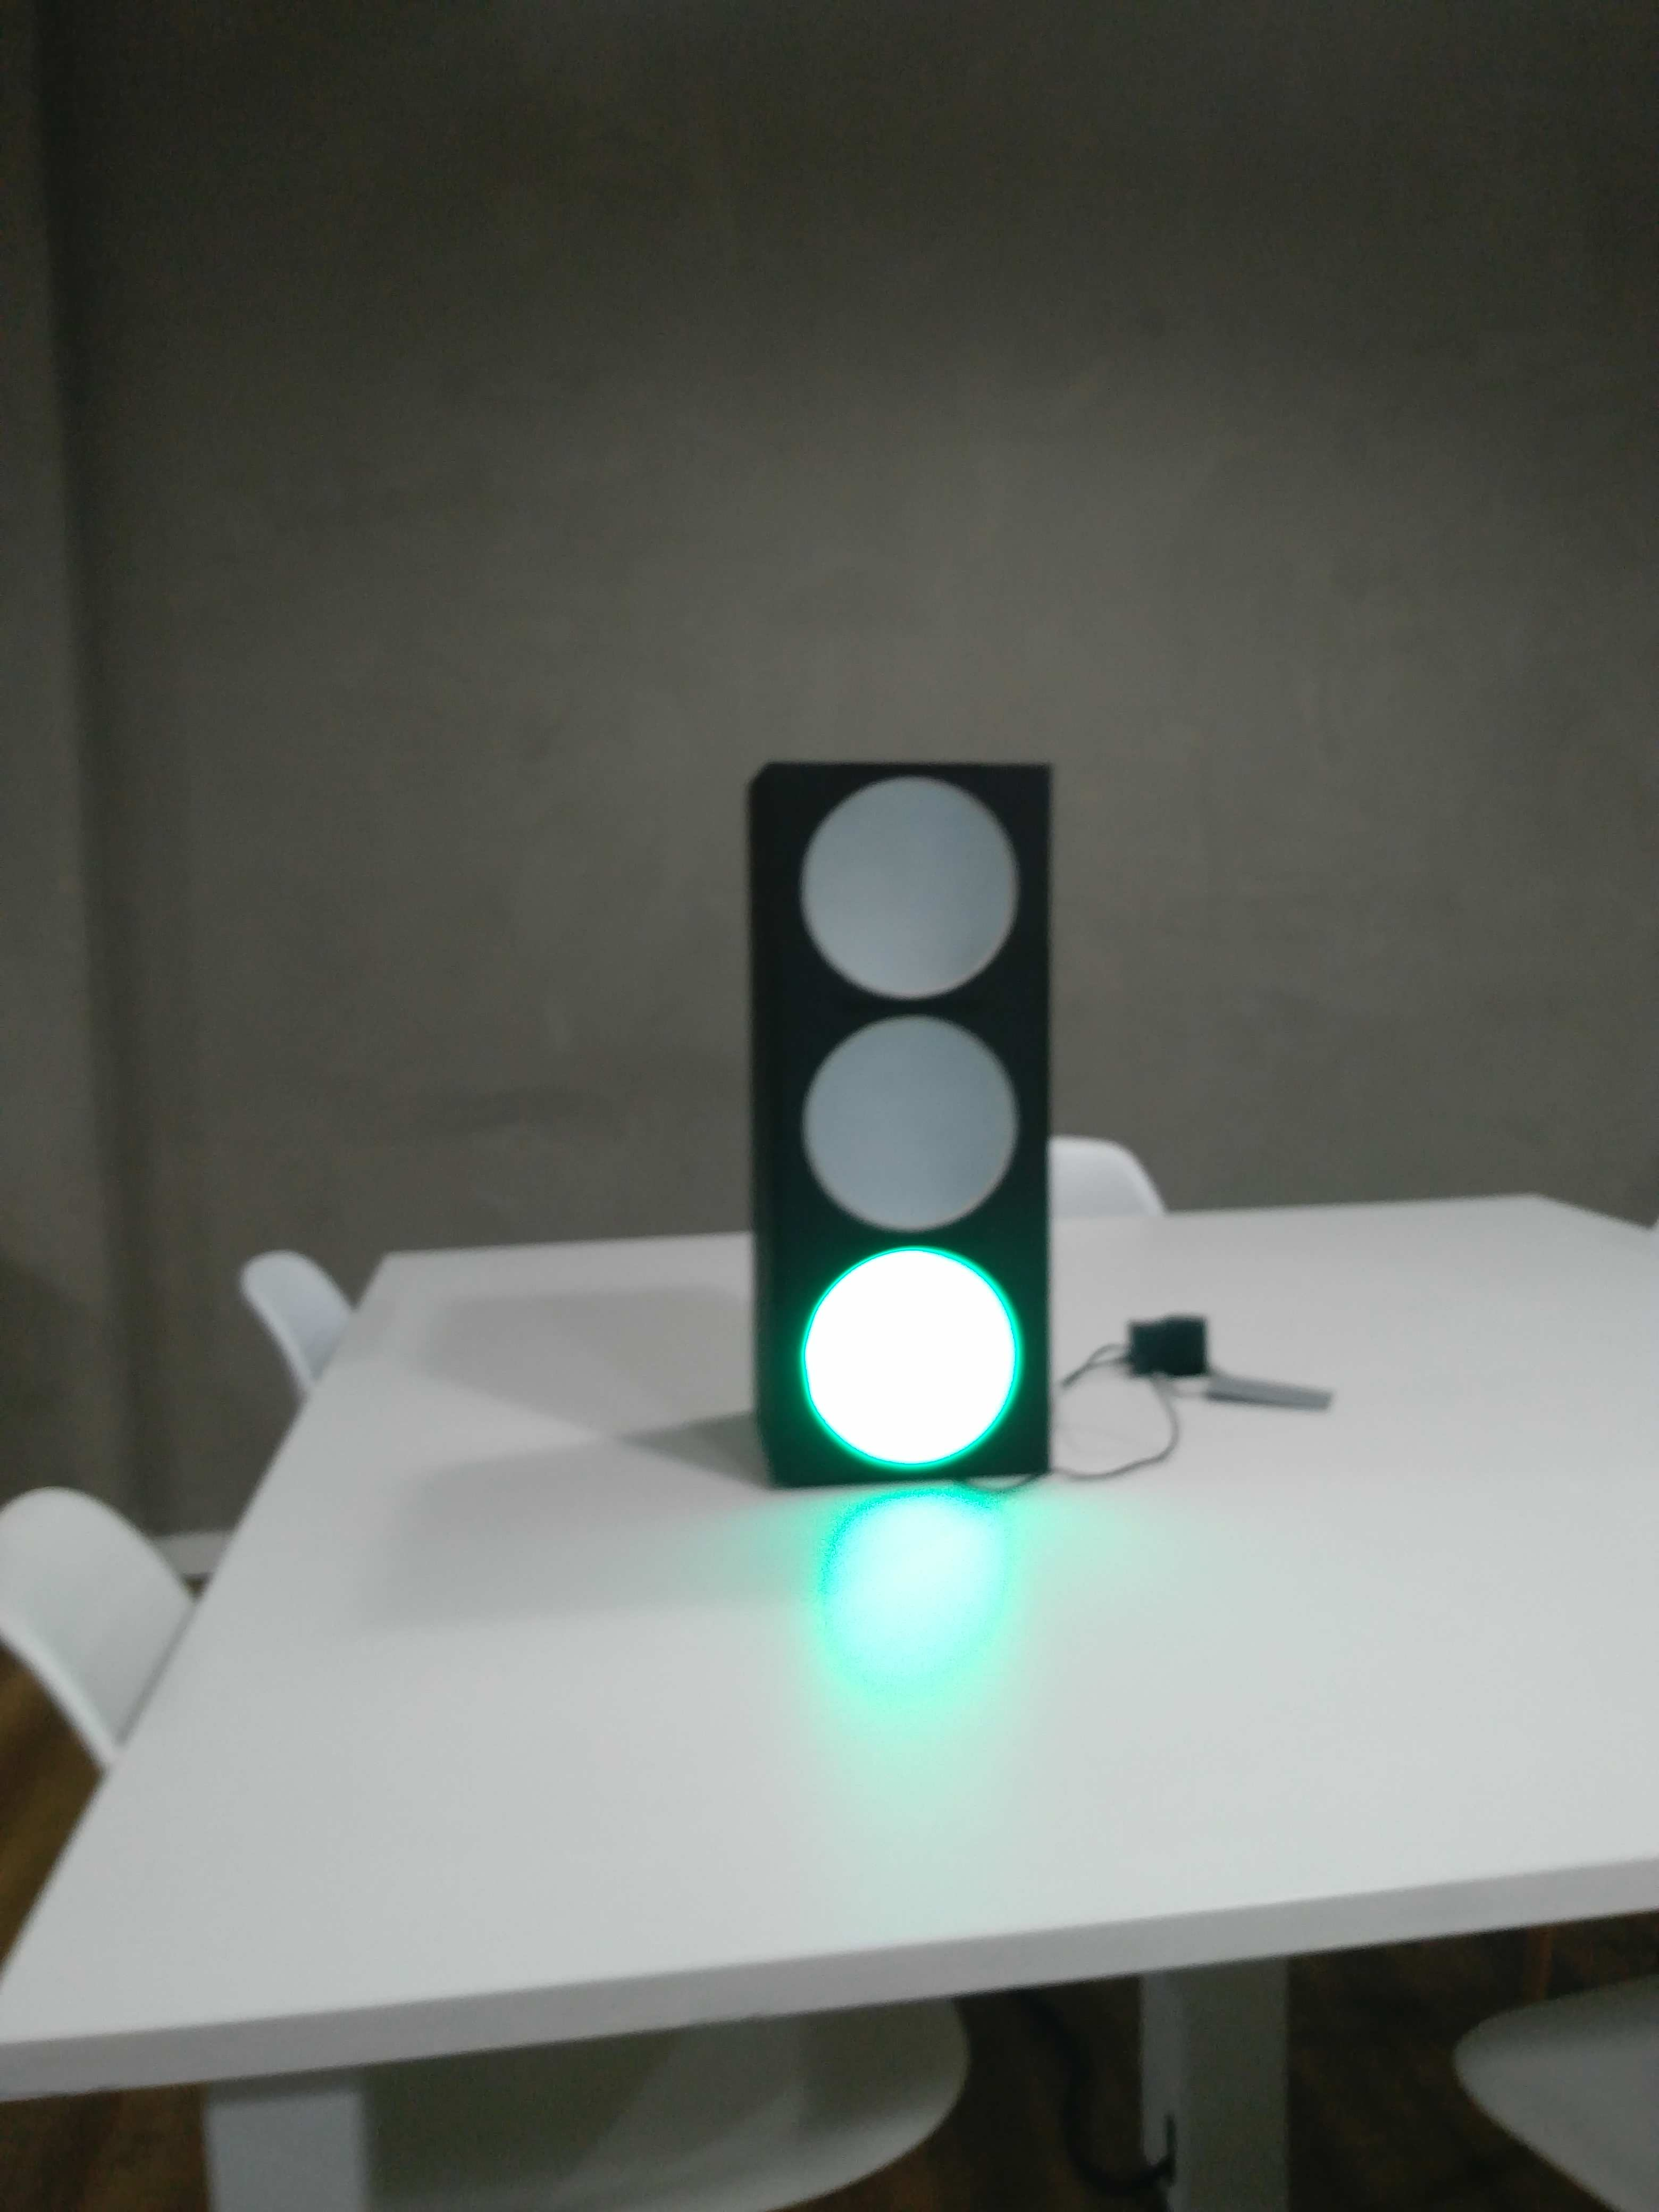go: (744, 752, 1061, 1484)
